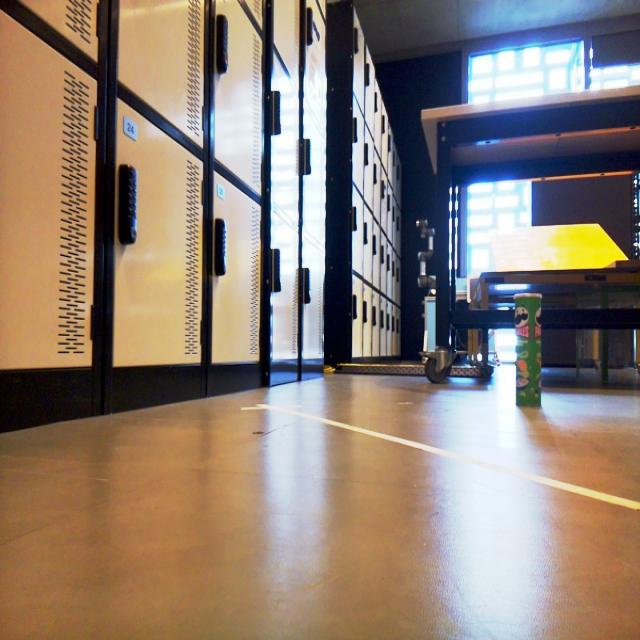greenpringles: (506, 286, 555, 416)
